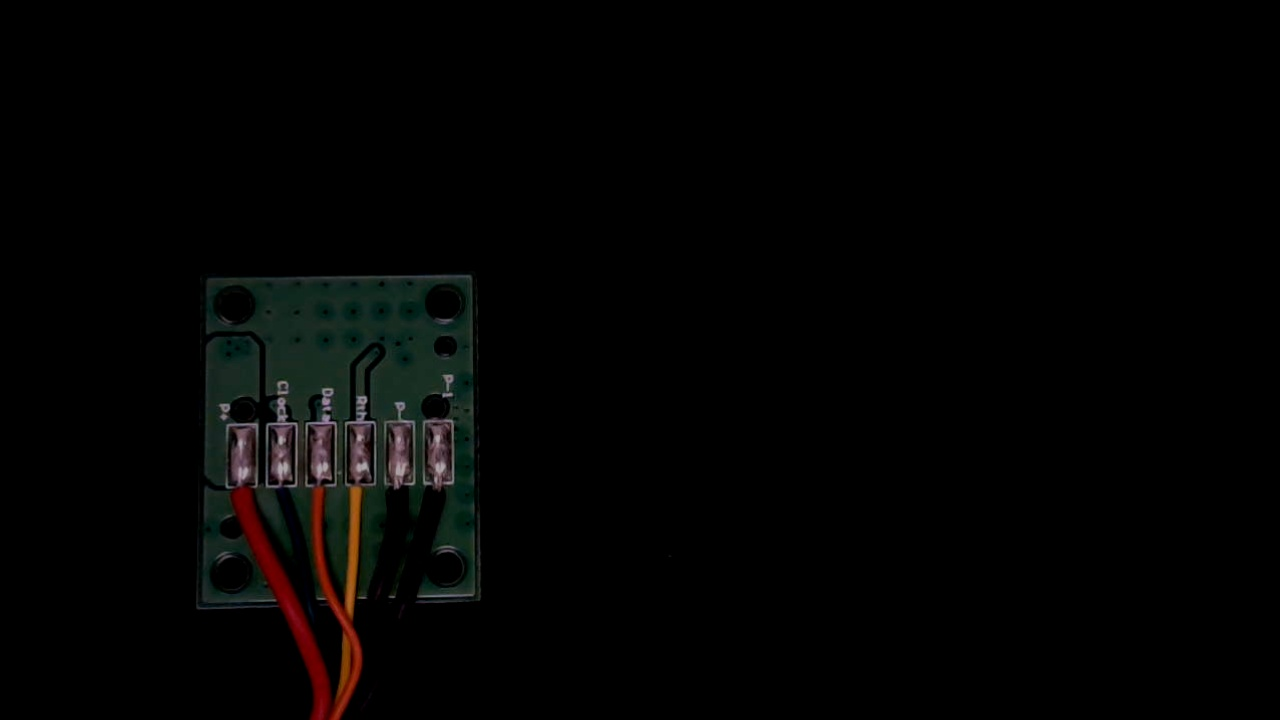Black: (385, 463, 415, 536)
Black1: (424, 466, 454, 528)
Green: (267, 466, 295, 526)
Orange: (307, 463, 336, 529)
Red: (227, 464, 259, 533)
Yellow: (347, 463, 375, 538)
